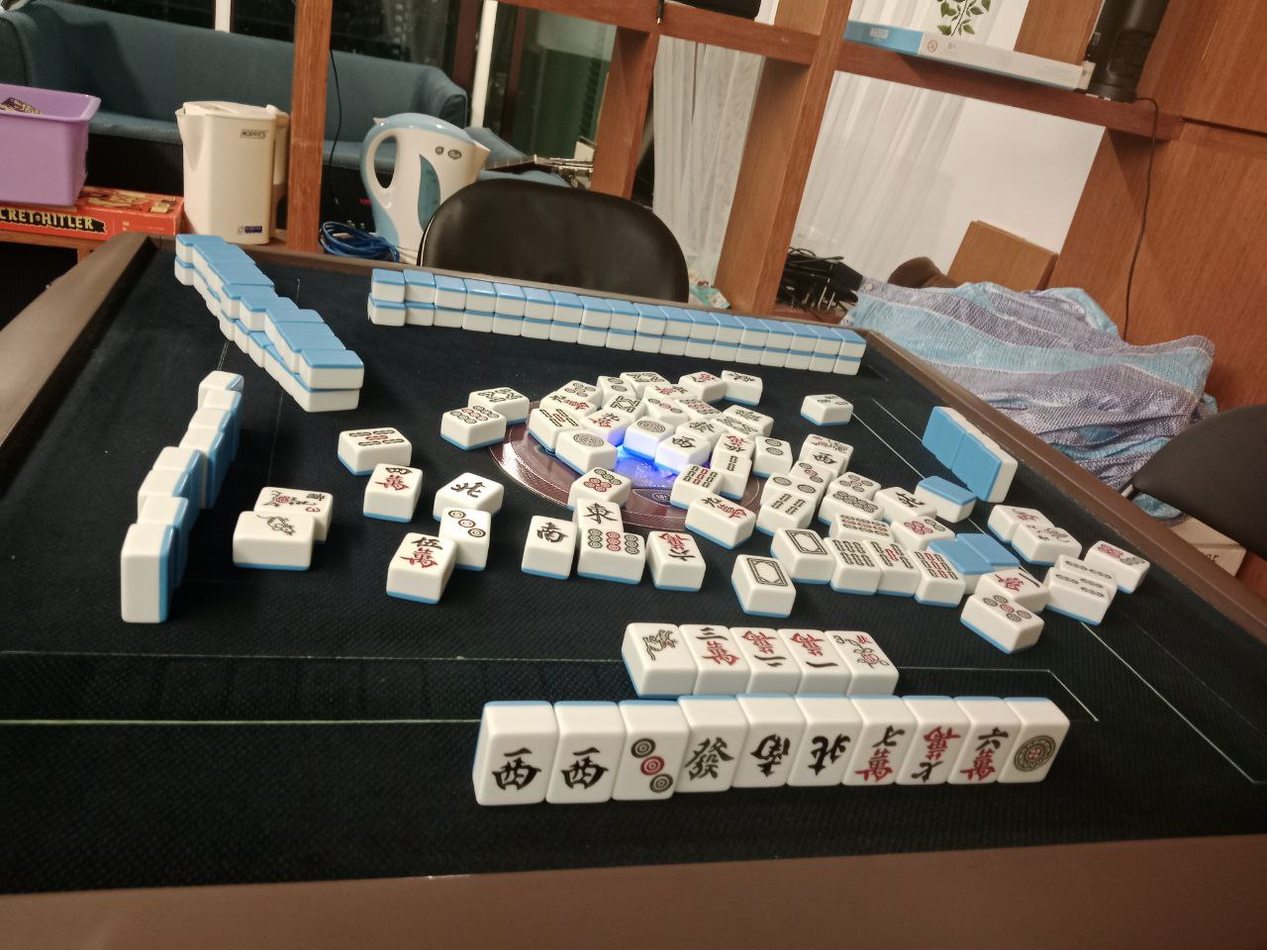TILE: (550, 727, 626, 800), (479, 731, 557, 802), (619, 727, 684, 797), (742, 723, 803, 795), (1009, 719, 1067, 786), (682, 729, 743, 791), (960, 715, 1013, 786), (856, 719, 911, 785), (803, 719, 855, 787), (914, 718, 964, 782), (624, 625, 695, 670), (832, 628, 902, 670), (739, 623, 794, 674), (683, 623, 742, 670), (788, 627, 838, 677)
